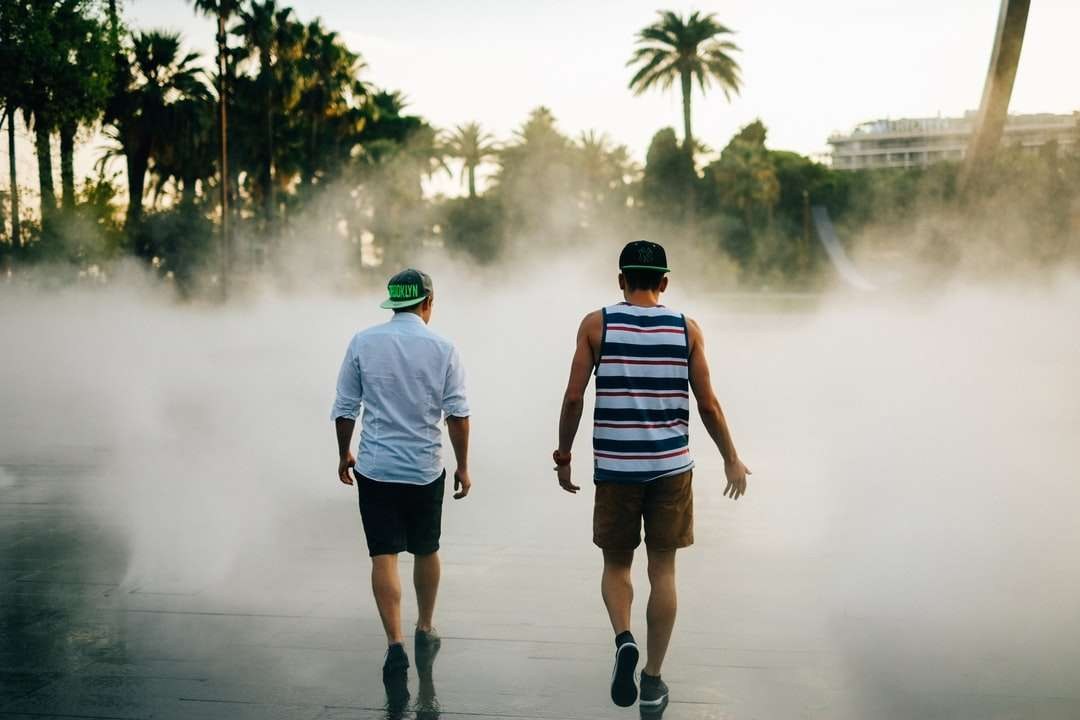person: (555, 241, 750, 700), (334, 267, 469, 667)
